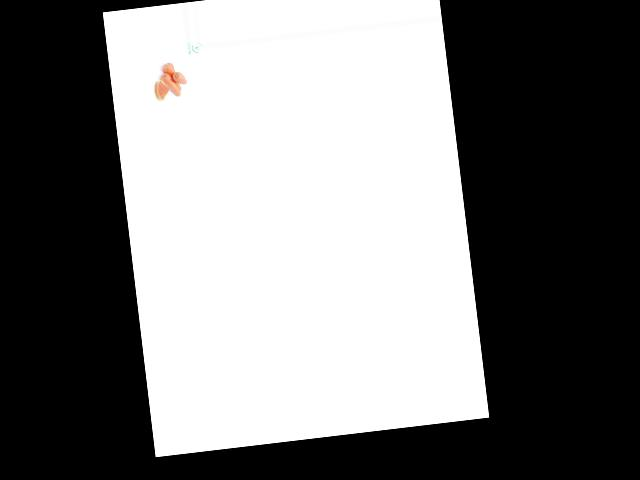carrot: (161, 71, 182, 99)
